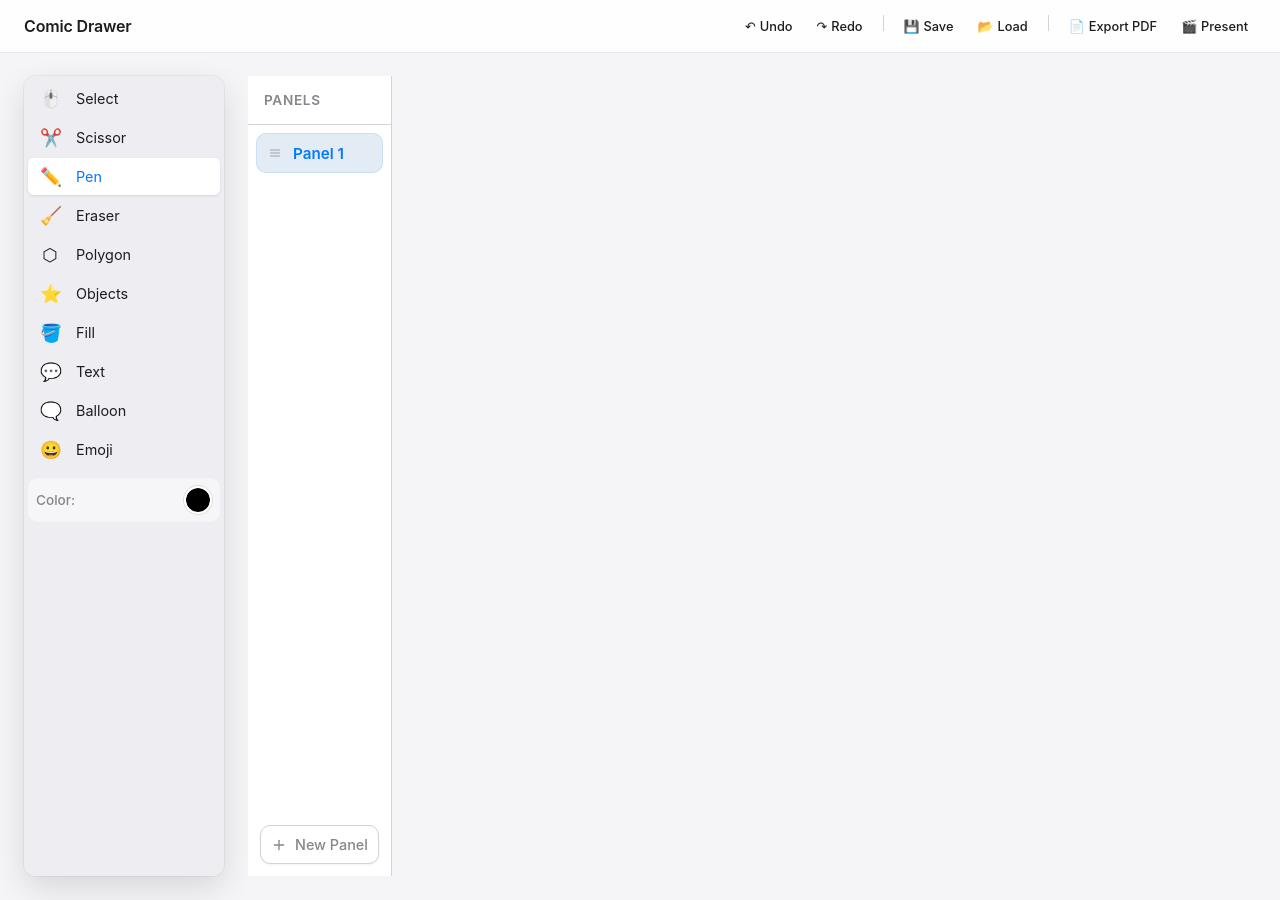
Test: App › shows modal when adding a panel
Click the button "New Panel". click: (320, 844)
box: [260,825,379,864]
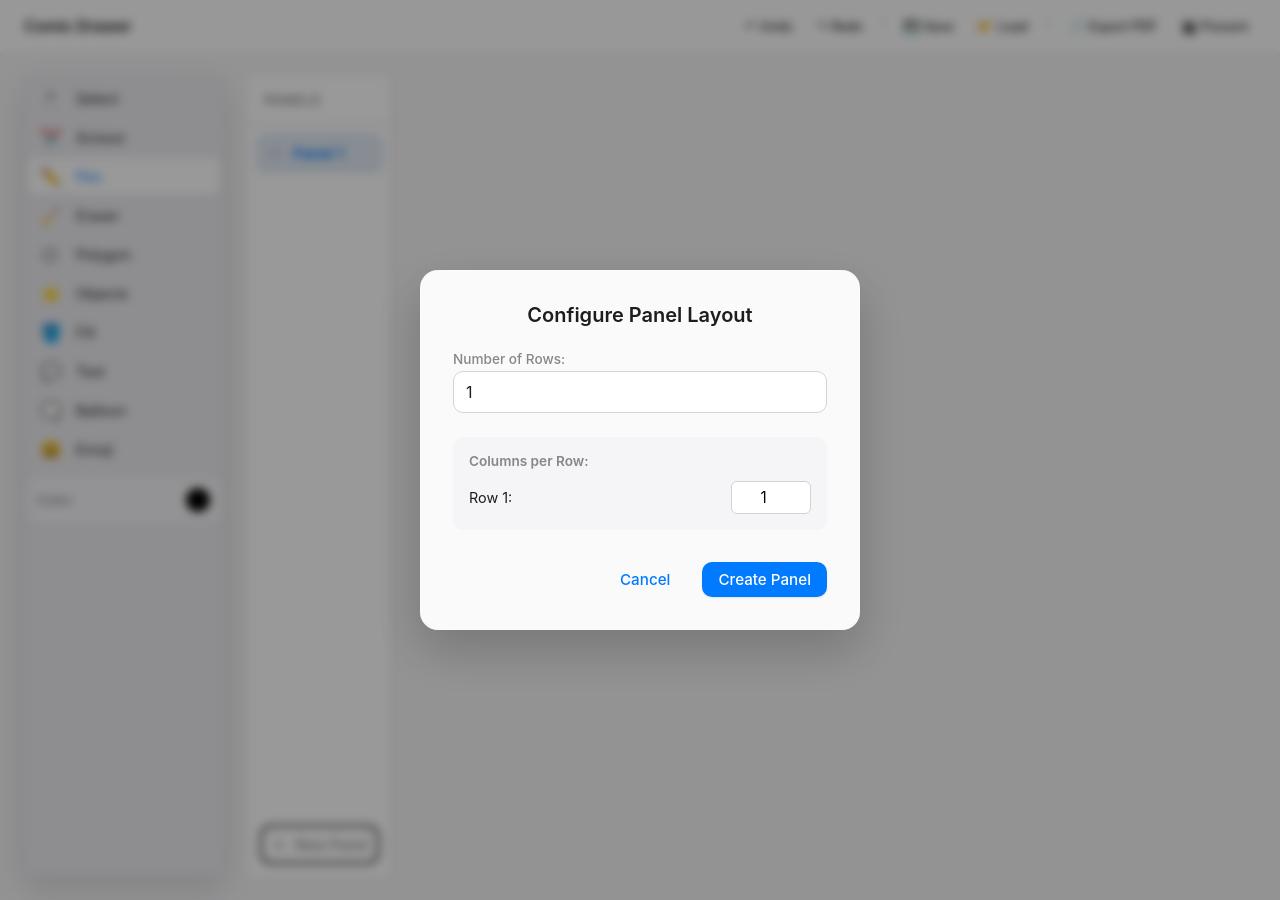
Check: the heading "Configure Panel Layout" is shown, box [527,303,753,327]
